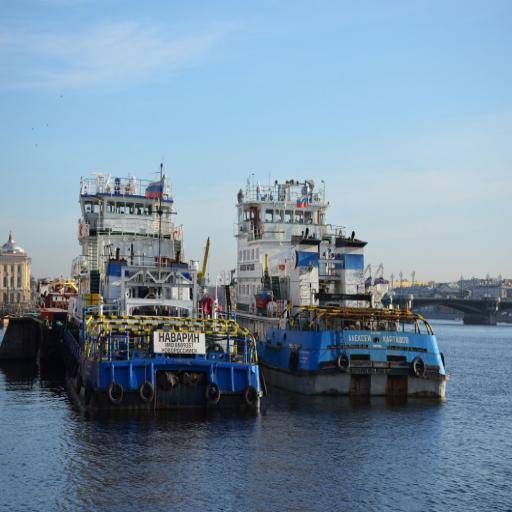tugboat: (58, 154, 268, 425), (227, 171, 454, 408)
